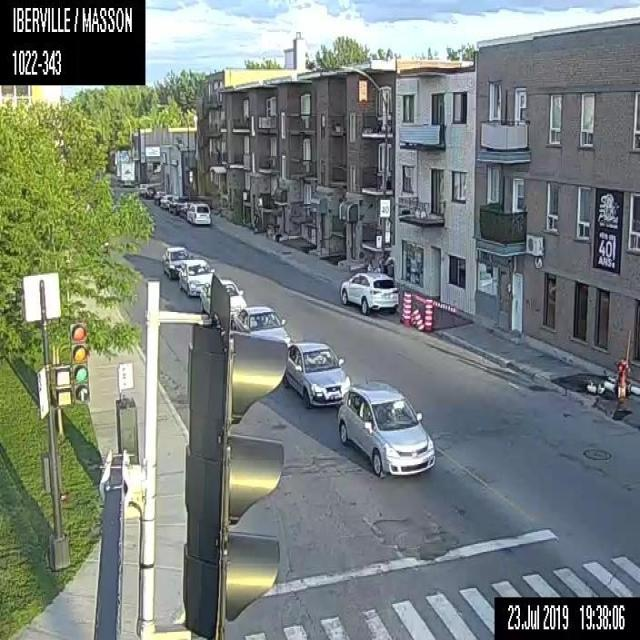Ad-signs: (590, 186, 624, 275)
Car: (336, 379, 435, 478), (282, 340, 350, 409), (338, 271, 399, 315)
Traffic-light: (69, 322, 90, 404)
